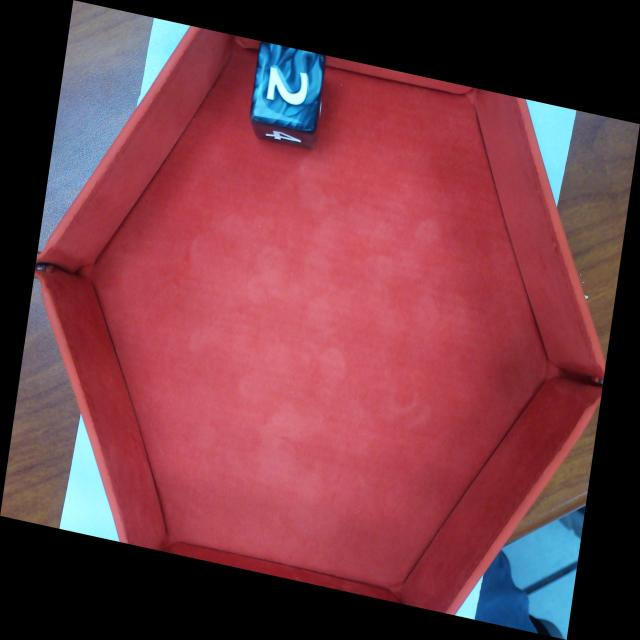dice: (254, 41, 324, 129)
